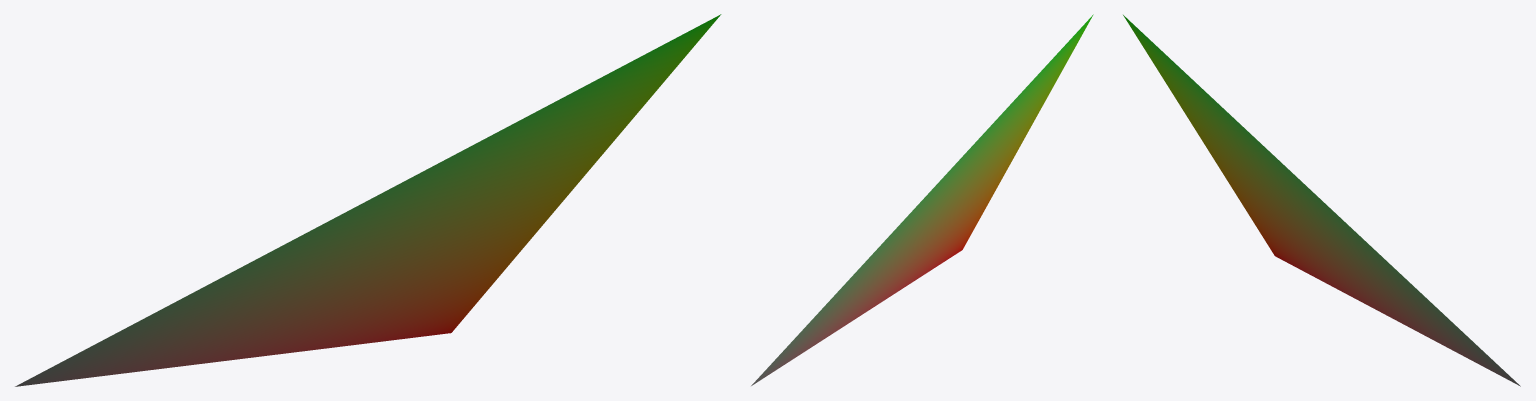
File: start_border_patch_17.obj
3 views of the same model, side by side, from view 1: azimuth 90°, elevation 25°; view 2: azimuth 150°, elevation 25°; view 3: azimuth 270°, elevation 25° (orthographic). The views are drawn at different scales.
Size of the model in its own units: 0.4126 by 0.691 by 0.8569.
